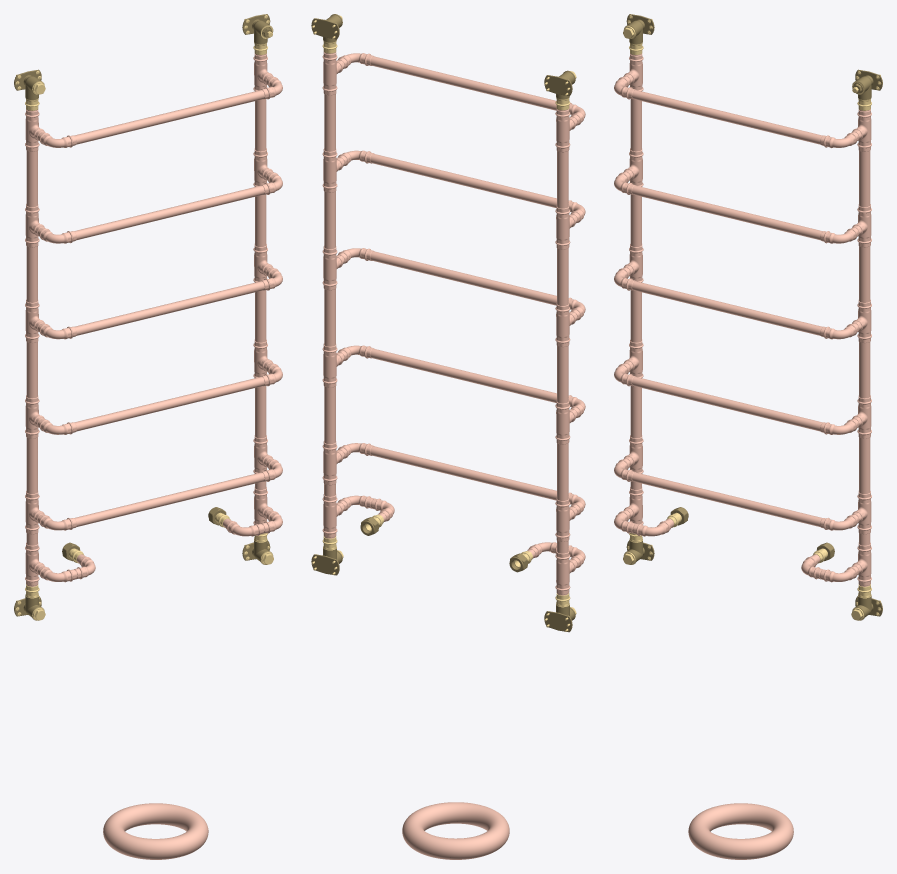
Rendered from escala.glb.
The picture shows the model from 3 angles, left to right: view 1: azimuth 30°, elevation 25°; view 2: azimuth 150°, elevation 25°; view 3: azimuth 330°, elevation 25°; orthographic projection.
Parts seen in each view (by area): view 1: Torus.001, Pad.017, Pad.007, Pad.027, Pad.037, Pad.1, Pad.015, Pad.025, Pad.035, Pad.045, Pad.033, Pad.013 (+8 smaller); view 2: Torus.001, Pad.037, Pad.017, Pad.027, Pad.007, Pad.1, Pad.023, Pad.033, Pad.013, Pad.015, Pad.025, Pad.043 (+18 smaller); view 3: Torus.001, Pad.037, Pad.007, Pad.017, Pad.1, Pad.027, Pad.013, Pad.023, Pad.033, Pad.043, Pad.035, Pad.015 (+8 smaller).
Boxes of the visible parts, left/top/right/bottom form: Torus.001: left=103, top=803, right=208, bottom=859; Pad.017: left=74, top=281, right=264, bottom=335; Pad.007: left=74, top=185, right=264, bottom=240; Pad.027: left=74, top=376, right=264, bottom=431; Pad.037: left=74, top=472, right=264, bottom=526; Pad.1: left=74, top=90, right=264, bottom=144; Pad.015: left=26, top=150, right=37, bottom=207; Pad.025: left=26, top=246, right=37, bottom=302; Pad.035: left=26, top=342, right=37, bottom=398; Pad.045: left=26, top=437, right=37, bottom=493; Pad.033: left=255, top=290, right=266, bottom=342; Pad.013: left=255, top=99, right=266, bottom=151; Torus.001: left=402, top=802, right=509, bottom=859; Pad.037: left=370, top=446, right=556, bottom=500; Pad.017: left=370, top=251, right=556, bottom=305; Pad.027: left=370, top=348, right=556, bottom=402; Pad.007: left=370, top=153, right=556, bottom=208; Pad.1: left=370, top=56, right=556, bottom=110; Pad.023: left=324, top=191, right=335, bottom=249; Pad.033: left=324, top=289, right=335, bottom=346; Pad.013: left=324, top=94, right=335, bottom=151; Pad.015: left=557, top=151, right=568, bottom=208; Pad.025: left=557, top=248, right=568, bottom=305; Pad.043: left=324, top=386, right=335, bottom=444; Torus.001: left=688, top=803, right=793, bottom=859; Pad.037: left=632, top=472, right=822, bottom=526; Pad.007: left=632, top=185, right=822, bottom=240; Pad.017: left=632, top=281, right=822, bottom=335; Pad.1: left=632, top=90, right=822, bottom=144; Pad.027: left=632, top=376, right=822, bottom=431; Pad.013: left=859, top=150, right=870, bottom=207; Pad.023: left=859, top=246, right=870, bottom=302; Pad.033: left=859, top=342, right=870, bottom=398; Pad.043: left=859, top=437, right=870, bottom=493; Pad.035: left=630, top=290, right=641, bottom=342; Pad.015: left=630, top=99, right=641, bottom=151.
Bounding box in the file's own units: 0.5598 × 1.65 × 0.2.
